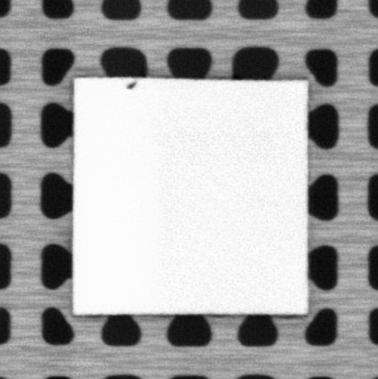DIE_INK: (124, 80, 139, 91)
